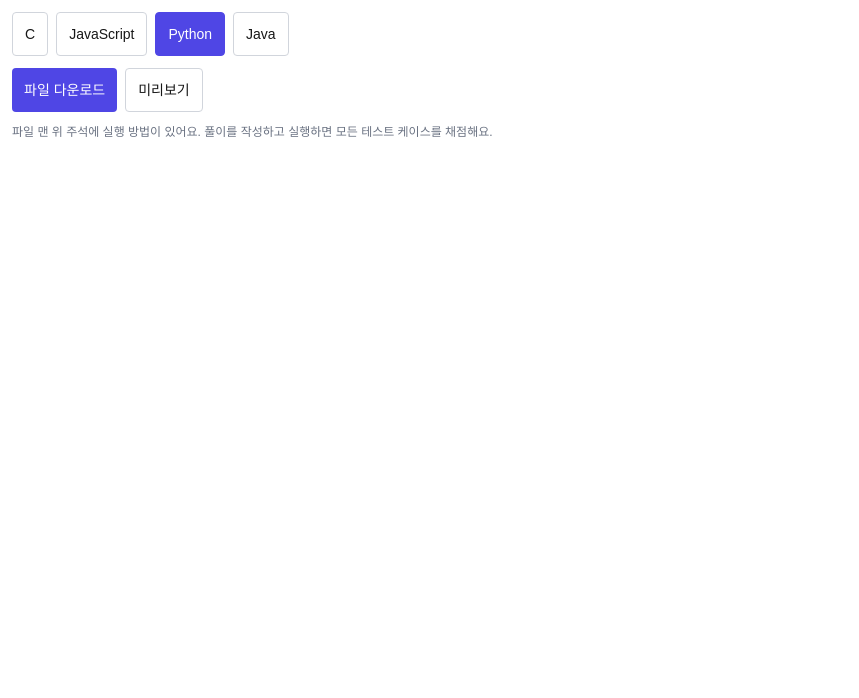
Test: DownloadPanel › previews the generated file for the selected language
This screenshot has width=859, height=698.
Click the radio button labelled "Java" at (261, 34), box [233,12,289,56]
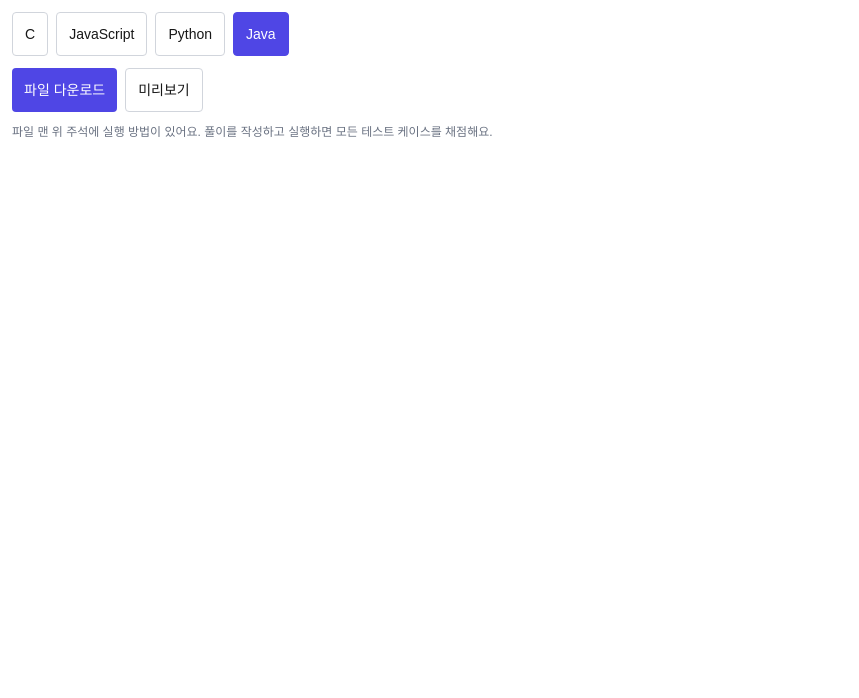
Click the button "미리보기" at (164, 90), box [125,68,203,112]
(page scrolled)
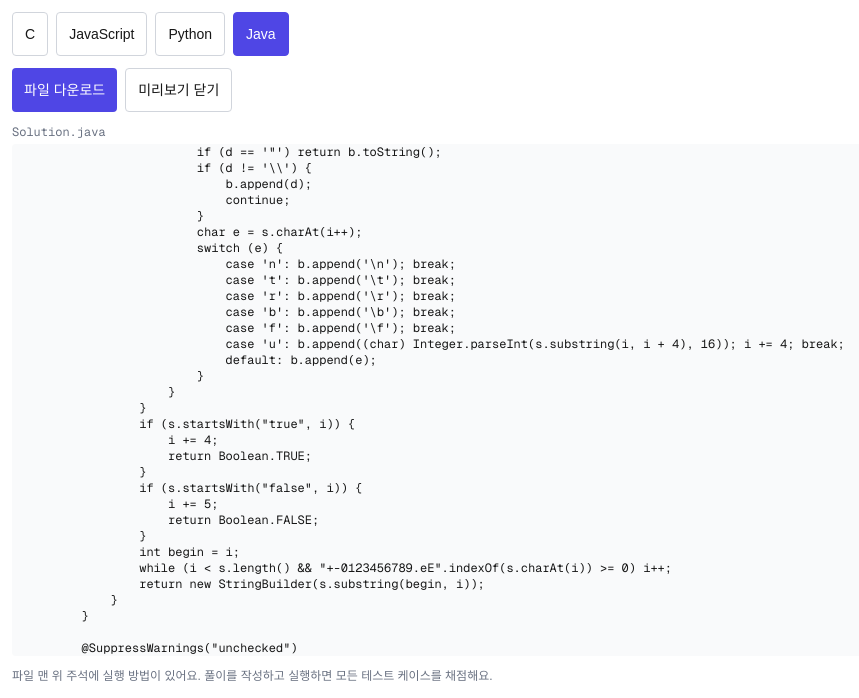
Check: the text "Solution.java" is shown, box [12,124,106,140]
